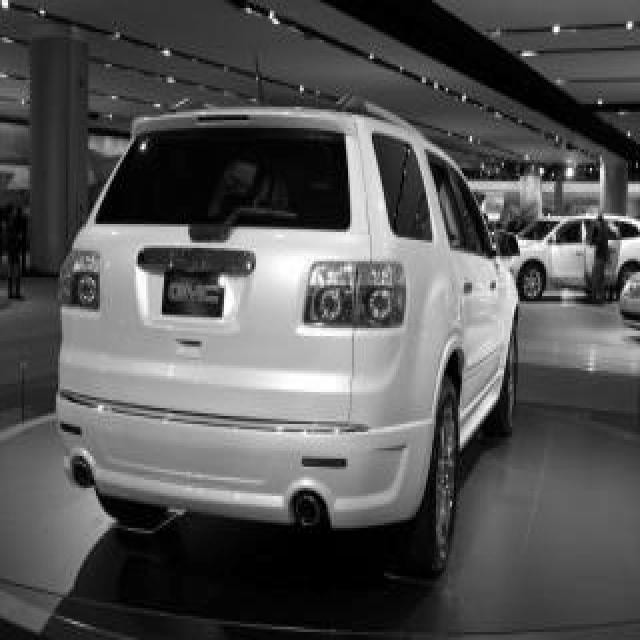Car: (58, 108, 518, 576)
